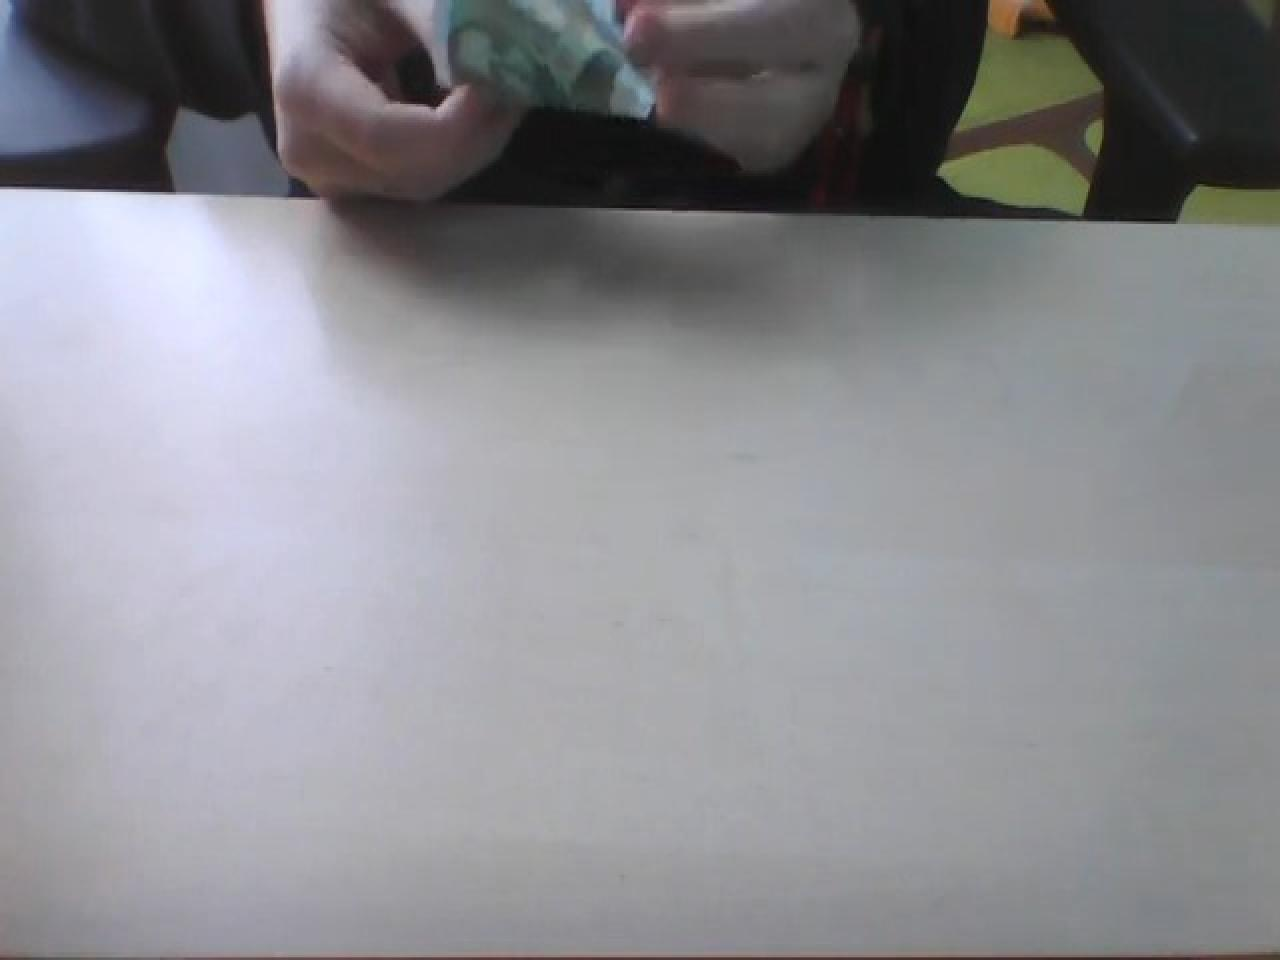100leva: (440, 0, 658, 125)
